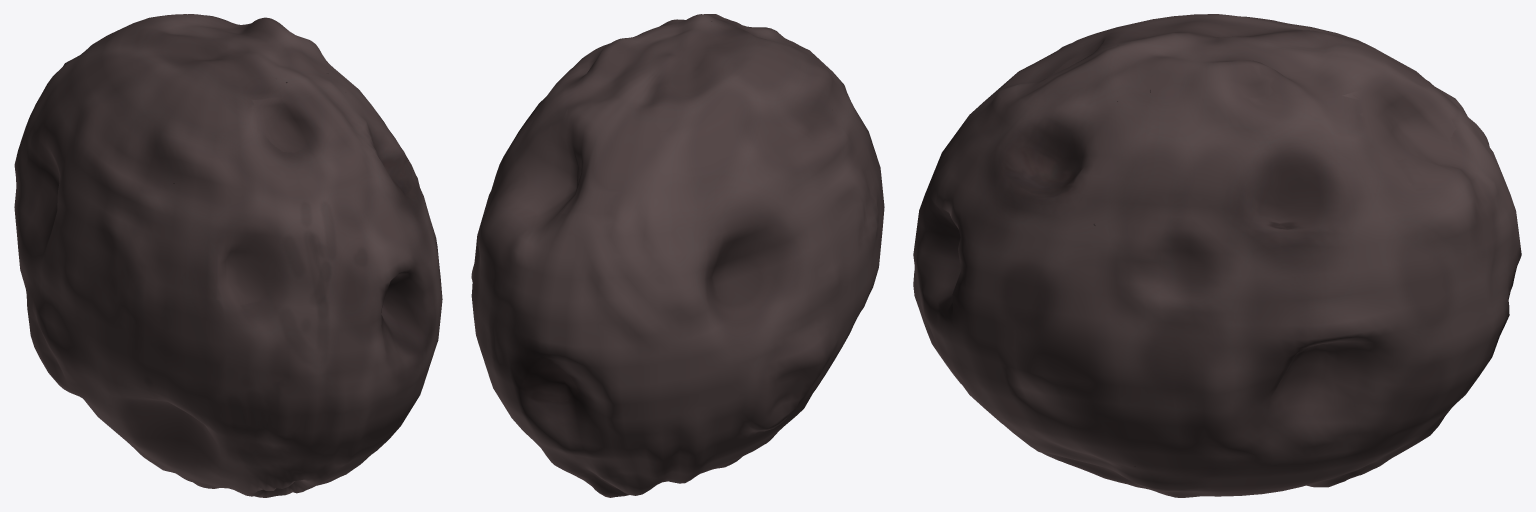
File: asteroid.glb
3 views of the same model, side by side, from view 1: azimuth 30°, elevation 25°; view 2: azimuth 150°, elevation 25°; view 3: azimuth 270°, elevation 25° (orthographic). The views are drawn at different scales.
Parts seen in each view (by area): view 1: Sphere; view 2: Sphere; view 3: Sphere.
Boxes of the visible parts, <box> form: Sphere: <box>14,14,442,497</box>; Sphere: <box>471,14,884,497</box>; Sphere: <box>913,14,1521,497</box>.
Bounding box in the file's own units: 1.93 × 2.37 × 2.92.
1 material, 1 textured.
